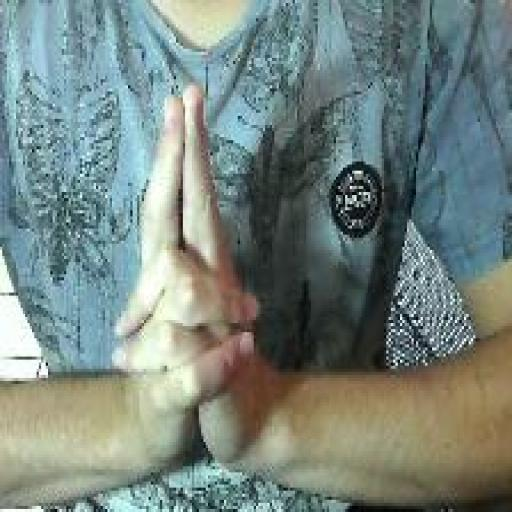Tora -tiger-: (109, 78, 266, 483)
